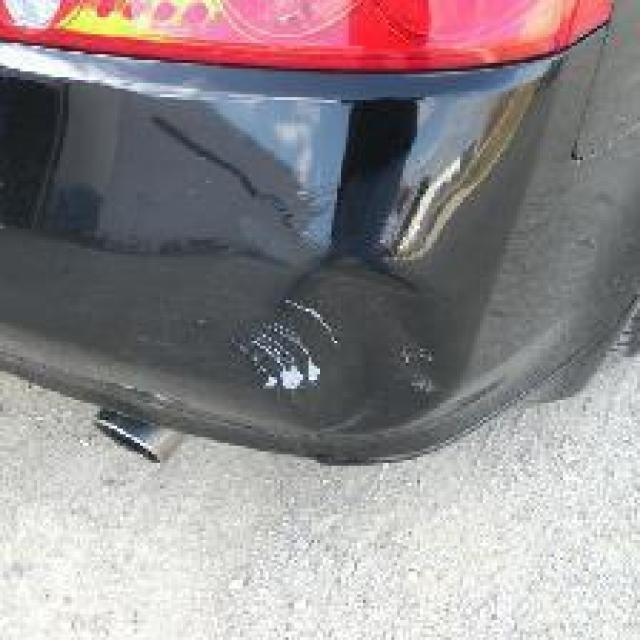damaged: (235, 232, 454, 454)
